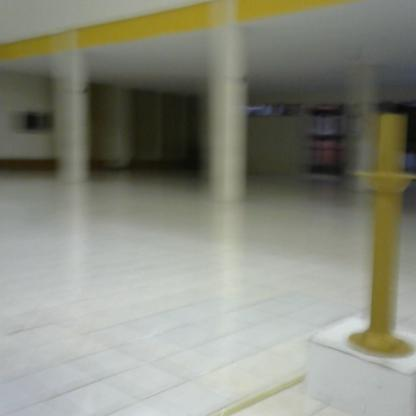pole: (342, 111, 416, 362)
